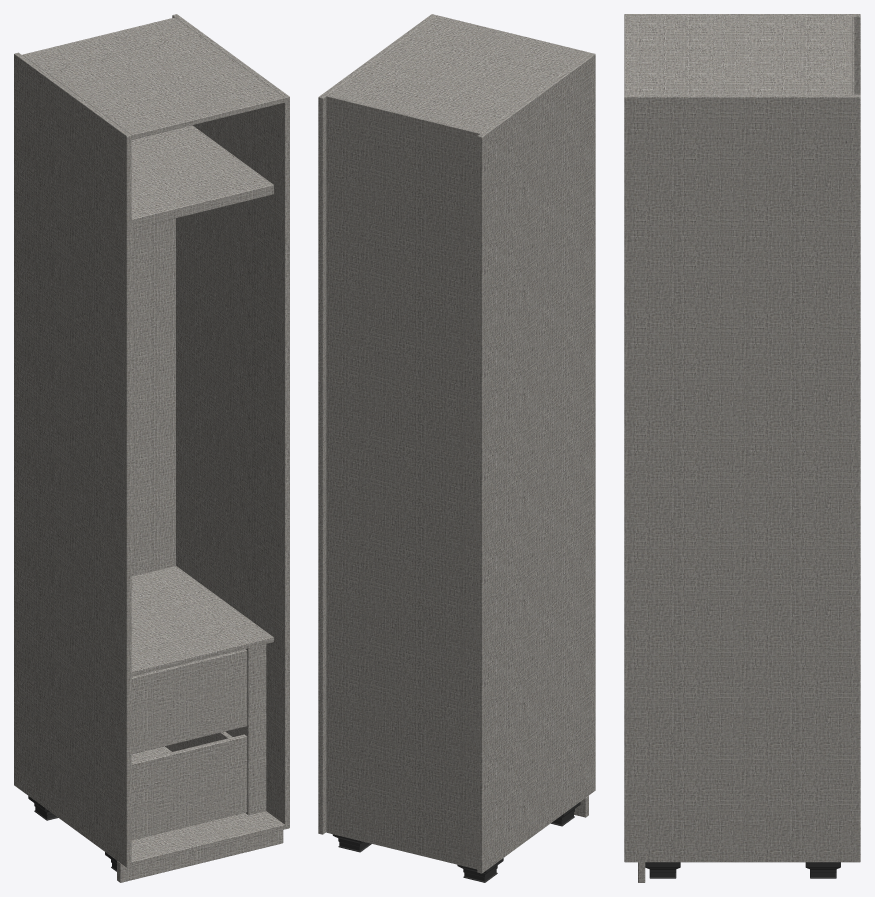
The model's file is cbib12131.gltf.
3 views of the same model, side by side, from view 1: azimuth 30°, elevation 25°; view 2: azimuth 150°, elevation 25°; view 3: azimuth 270°, elevation 25° (orthographic). The views are drawn at different scales.
Parts seen in each view (by area): view 1: CBIB12131; view 2: CBIB12131; view 3: CBIB12131.
Boxes of the visible parts, x1,y1,x2,y2 form: CBIB12131: [14, 14, 289, 882]; CBIB12131: [318, 14, 595, 882]; CBIB12131: [624, 14, 860, 882].
Size of the model in its own units: 0.5 by 2.2 by 0.6.
3 materials, 2 textured.
